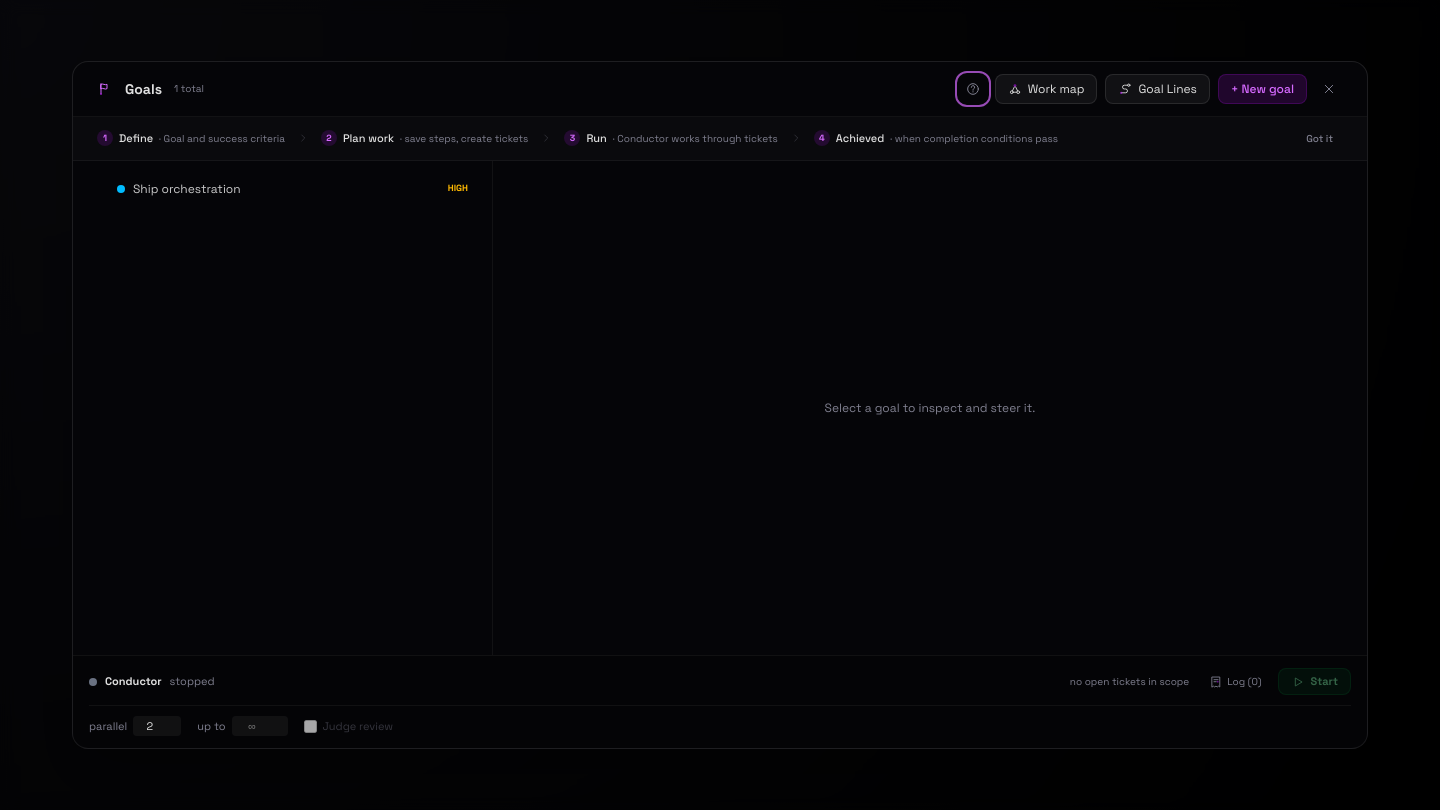
Test: GoalsModal › teaches the goal workflow on first run and dismisses persistently
Check: the element with test id "goals-workflow-strip" shows "Define", box [119,131,153,145]
Check: the element with test id "goals-workflow-strip" shows "Conductor", box [617,132,778,145]
Click the button with test id "goals-workflow-dismiss".
click(1320, 138)  # box [1296,127,1343,150]
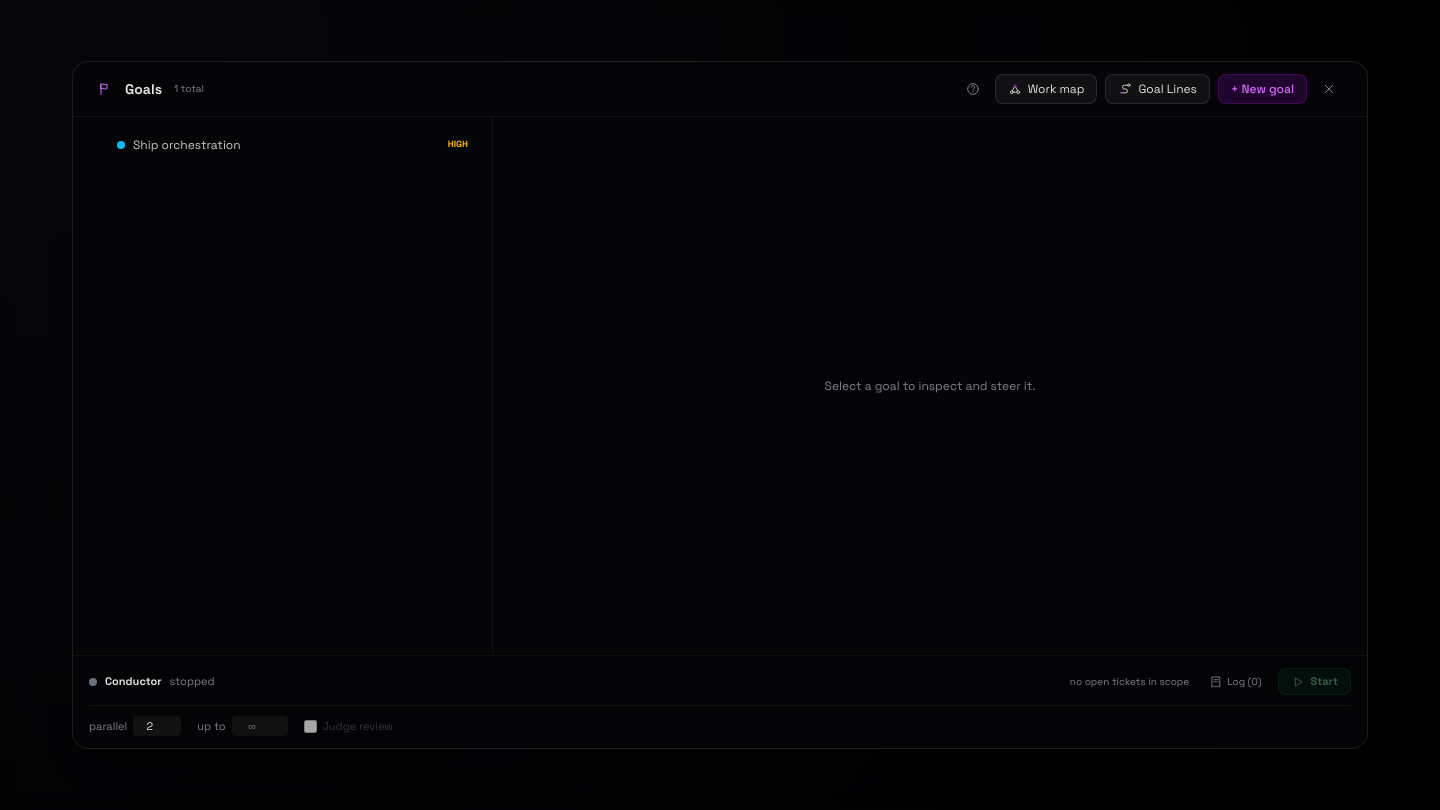
Check: the element with test id "goals-workflow-strip" is gone
